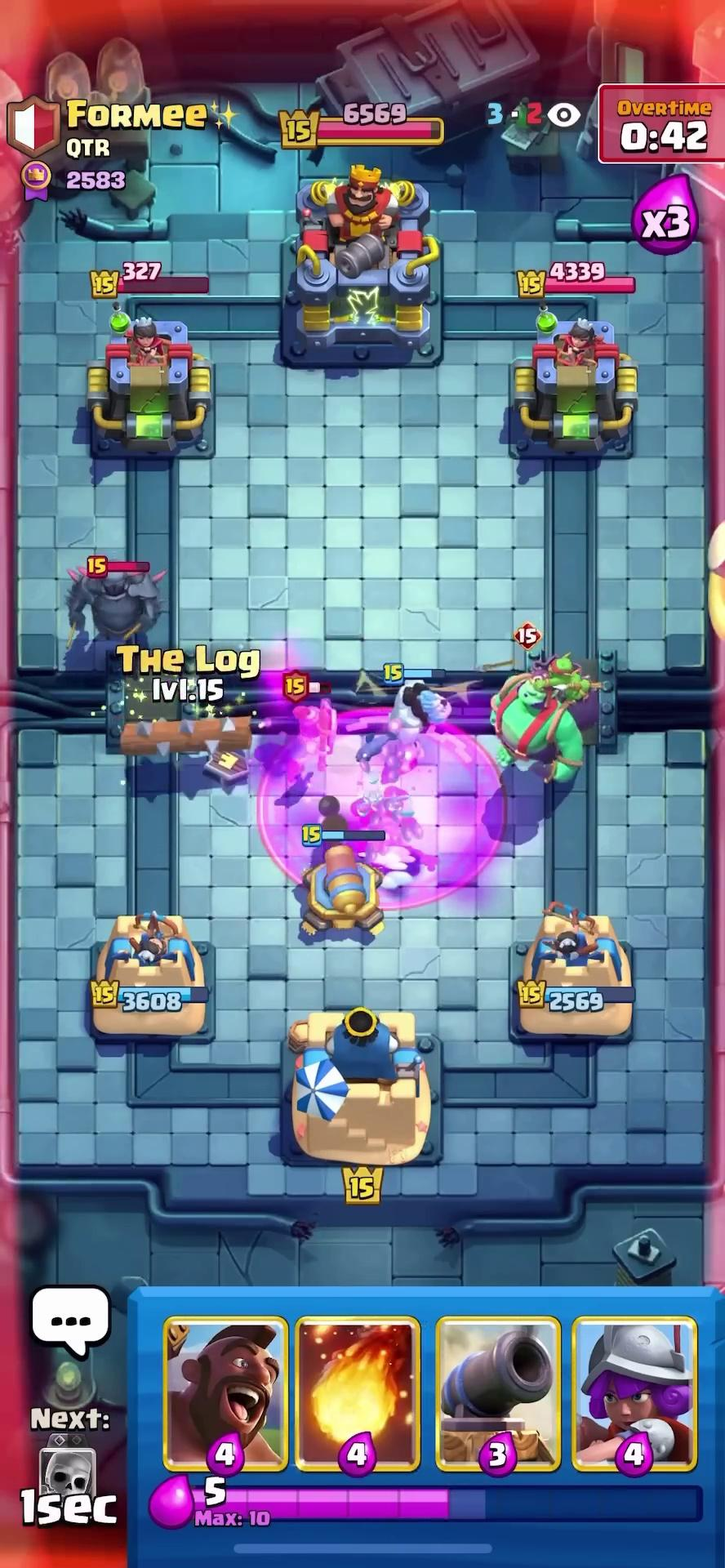cannon: (276, 825, 396, 937)
ice_golem: (380, 664, 445, 770)
log: (106, 715, 265, 757)
